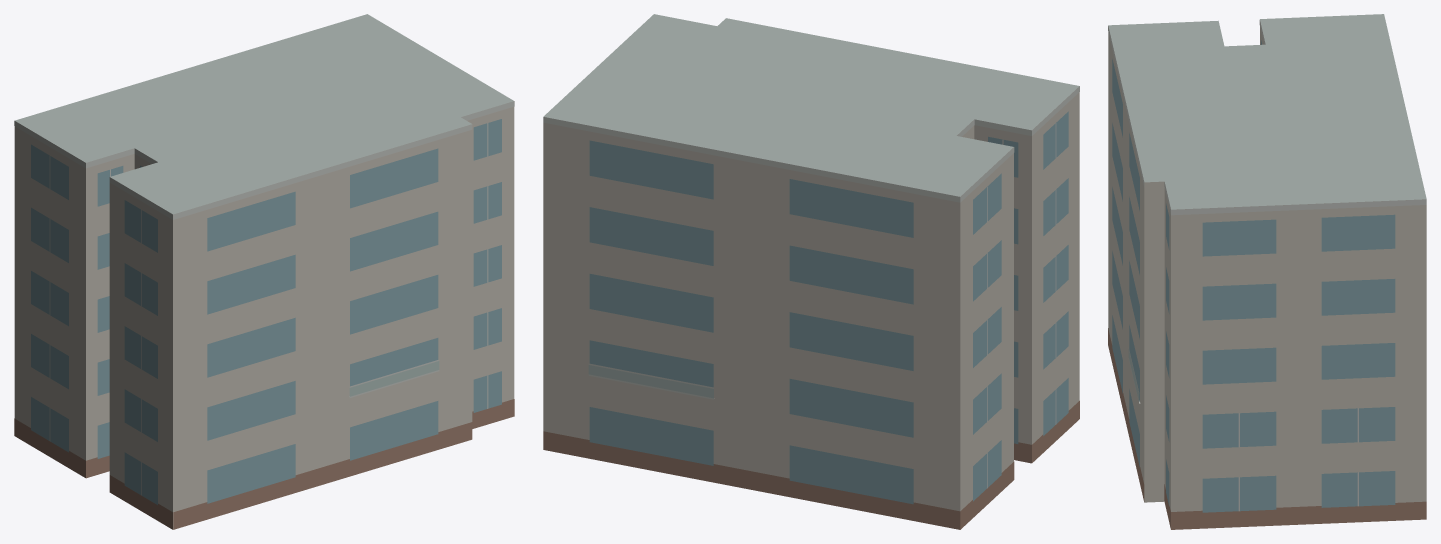
File: survey-upis-32725697.glb
The picture shows the model from 3 angles, left to right: view 1: azimuth 30°, elevation 25°; view 2: azimuth 150°, elevation 25°; view 3: azimuth 270°, elevation 25°; orthographic projection. The views are drawn at different scales.
Visible parts, largest first — view 1: survey-upis-32725697.tmp; view 2: survey-upis-32725697.tmp; view 3: survey-upis-32725697.tmp.
Part boxes in pixels (left/top/right/bottom): survey-upis-32725697.tmp: left=14, top=14, right=514, bottom=529; survey-upis-32725697.tmp: left=543, top=14, right=1079, bottom=529; survey-upis-32725697.tmp: left=1108, top=14, right=1426, bottom=529.
Bounding box in the file's own units: 18.29 × 13.95 × 12.59.
